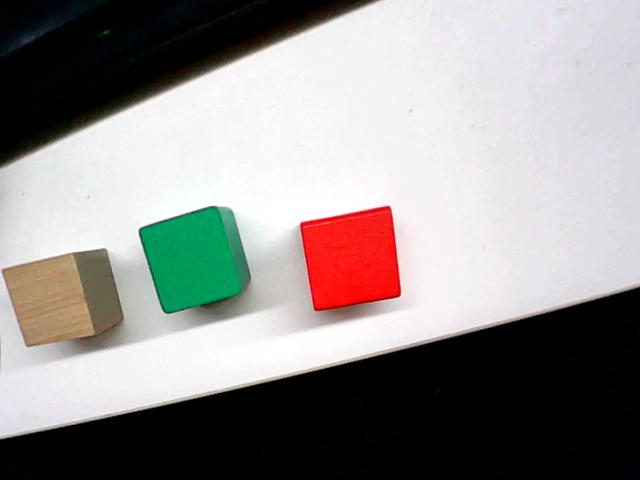green_box: (136, 202, 252, 315)
raw_box: (1, 247, 129, 356)
red_box: (296, 201, 404, 313)
